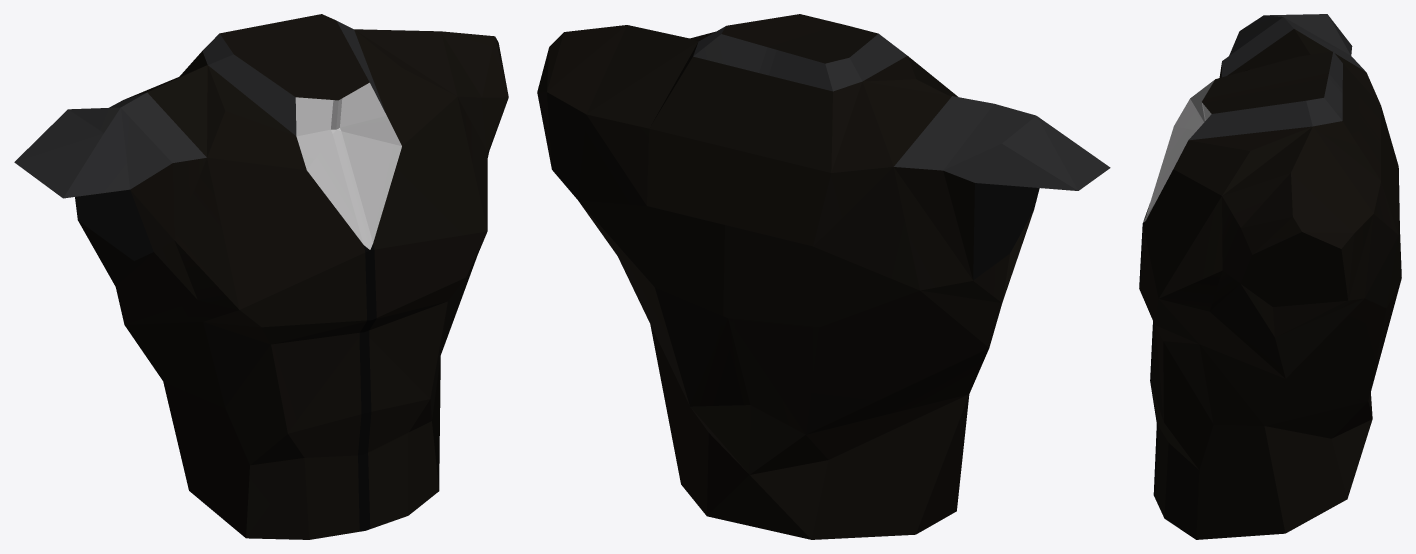
File: shirt.outlaw.fbx
The picture shows the model from 3 angles, left to right: view 1: azimuth 30°, elevation 25°; view 2: azimuth 150°, elevation 25°; view 3: azimuth 270°, elevation 25°; orthographic projection. The views are drawn at different scales.
Visible parts, largest first — view 1: shirt; view 2: shirt; view 3: shirt.
Part boxes in pixels (x1,y1,x2,y2): shirt: (14, 14, 508, 539); shirt: (537, 14, 1110, 539); shirt: (1139, 14, 1401, 539).
Bounding box in the file's own units: 61.71 × 54.46 × 30.83.
